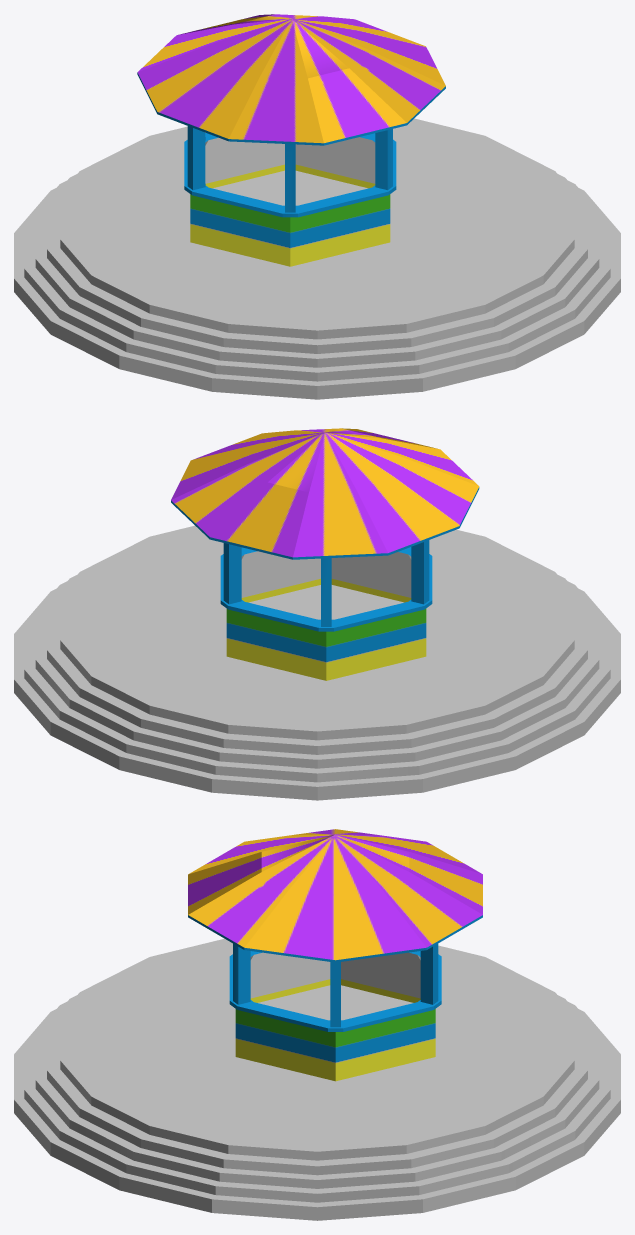
3 renders of one model, top to bottom at view 1: azimuth 30°, elevation 25°; view 2: azimuth 150°, elevation 25°; view 3: azimuth 270°, elevation 25°, orthographic.
Parts seen in each view (by area): view 1: SM_dx_20; view 2: SM_dx_20; view 3: SM_dx_20.
Part boxes in pixels (x1,y1,x2,y2): SM_dx_20: [14, 14, 620, 399]; SM_dx_20: [14, 428, 620, 800]; SM_dx_20: [14, 829, 620, 1220].
Bounding box in the file's own units: 9862 × 4382 × 9713.
